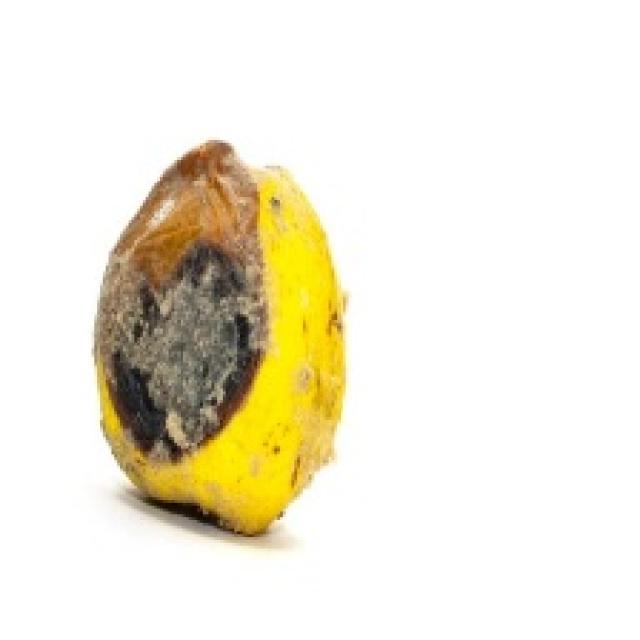rotten_apple: (96, 143, 346, 532)
